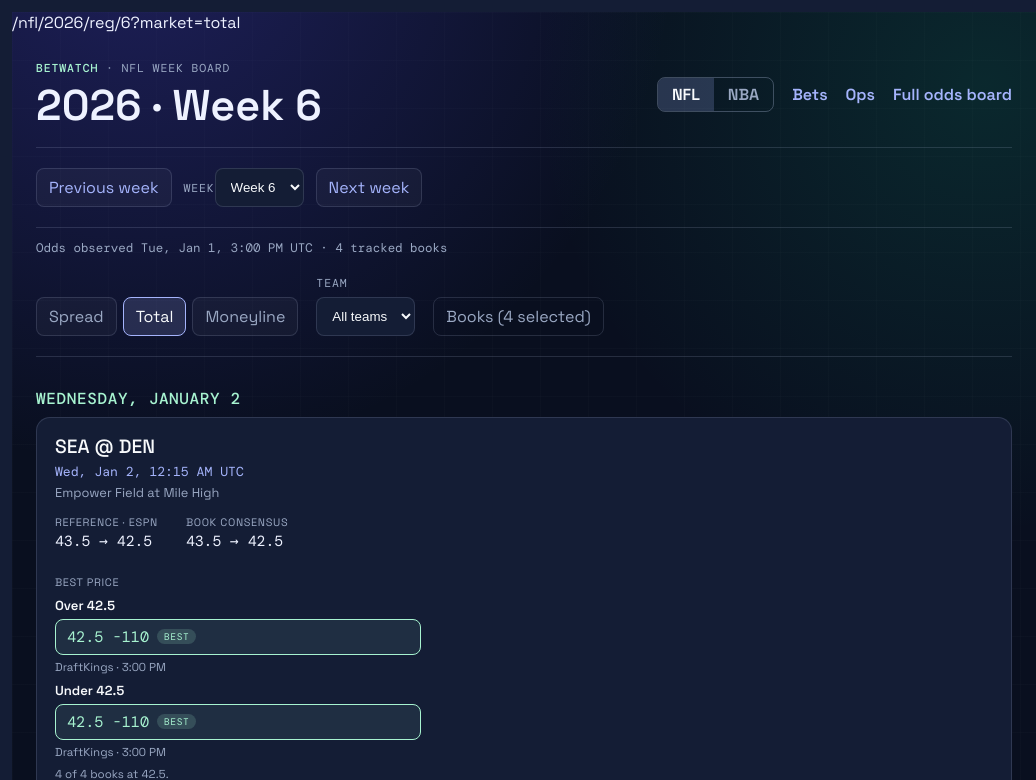
Test: SlatePage week board › navigates to the next week and carries the market along
Expected: the link "SEA @ DEN" is shown, [55, 434, 155, 459]
Click the button "Next week": (369, 188) [316, 168, 422, 207]
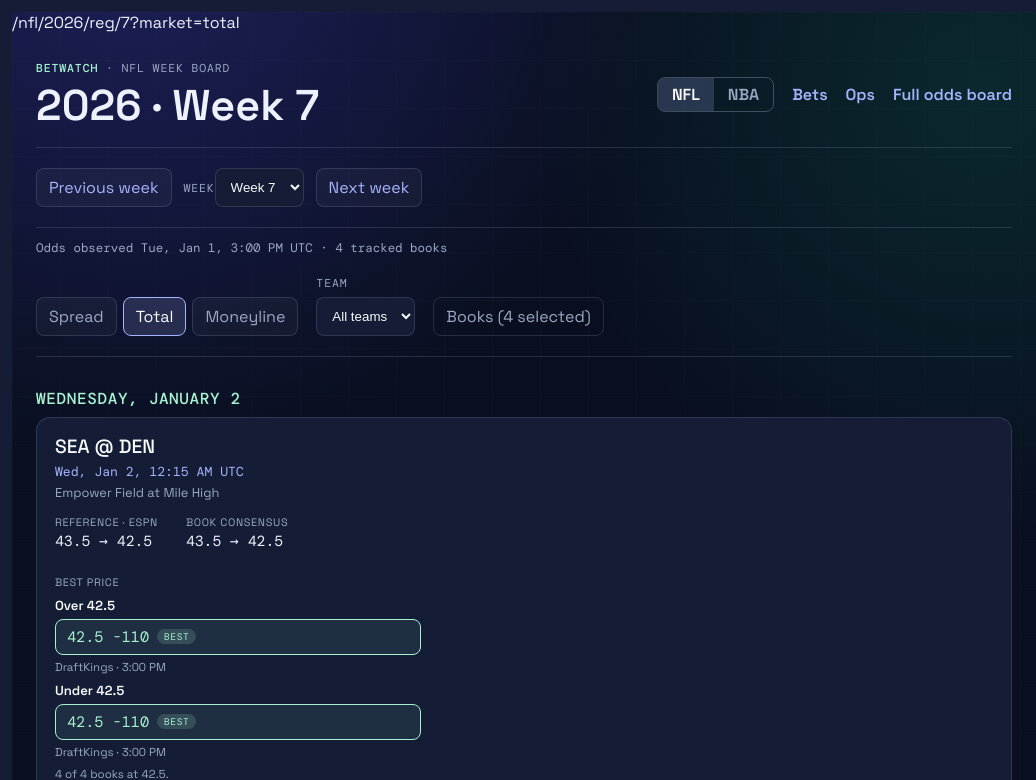
Now the text named "location" reads "/nfl/2026/reg/7?market=total", box [12, 12, 240, 33]
